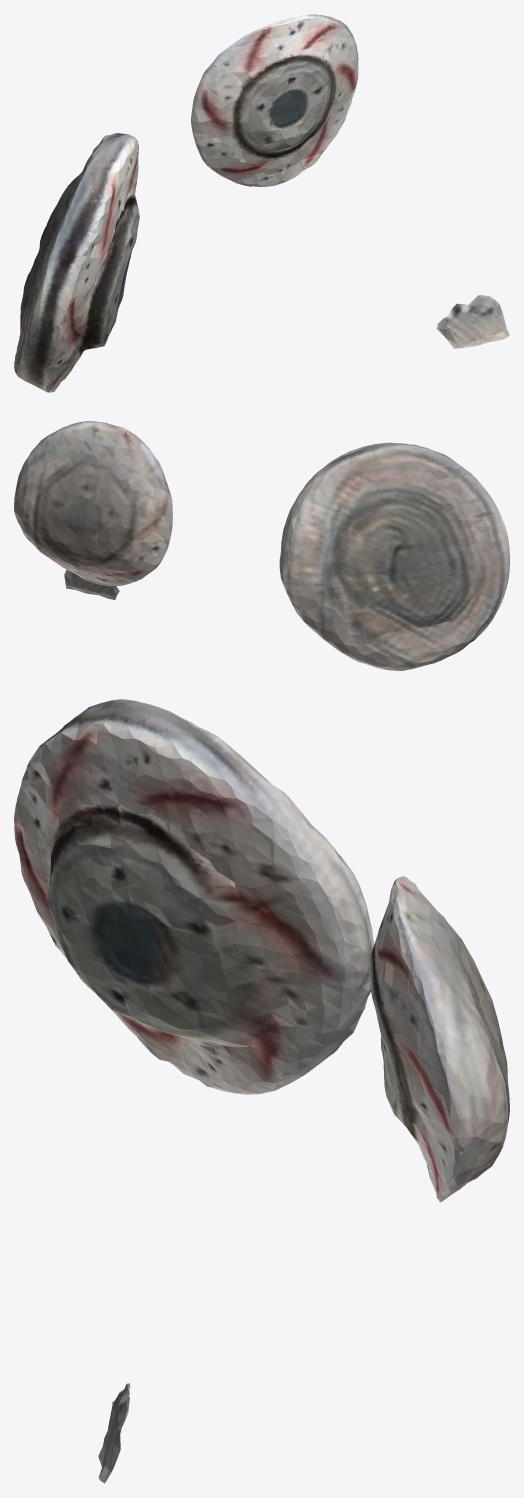
The model's file is brake_rotor.glb.
3 renders of one model, top to bottom at view 1: azimuth 30°, elevation 25°; view 2: azimuth 150°, elevation 25°; view 3: azimuth 270°, elevation 25°, orthographic. The views are drawn at different scales.
Parts seen in each view (by area): view 1: geometry_0; view 2: geometry_0; view 3: geometry_0.
Part boxes in pixels (x1,y1,x2,y2): geometry_0: [14, 14, 509, 392]; geometry_0: [14, 421, 509, 670]; geometry_0: [14, 699, 509, 1483].
Bounding box in the file's own units: 0.8964 × 0.4973 × 0.4655.
Materials: 1 (1 with a texture image).
